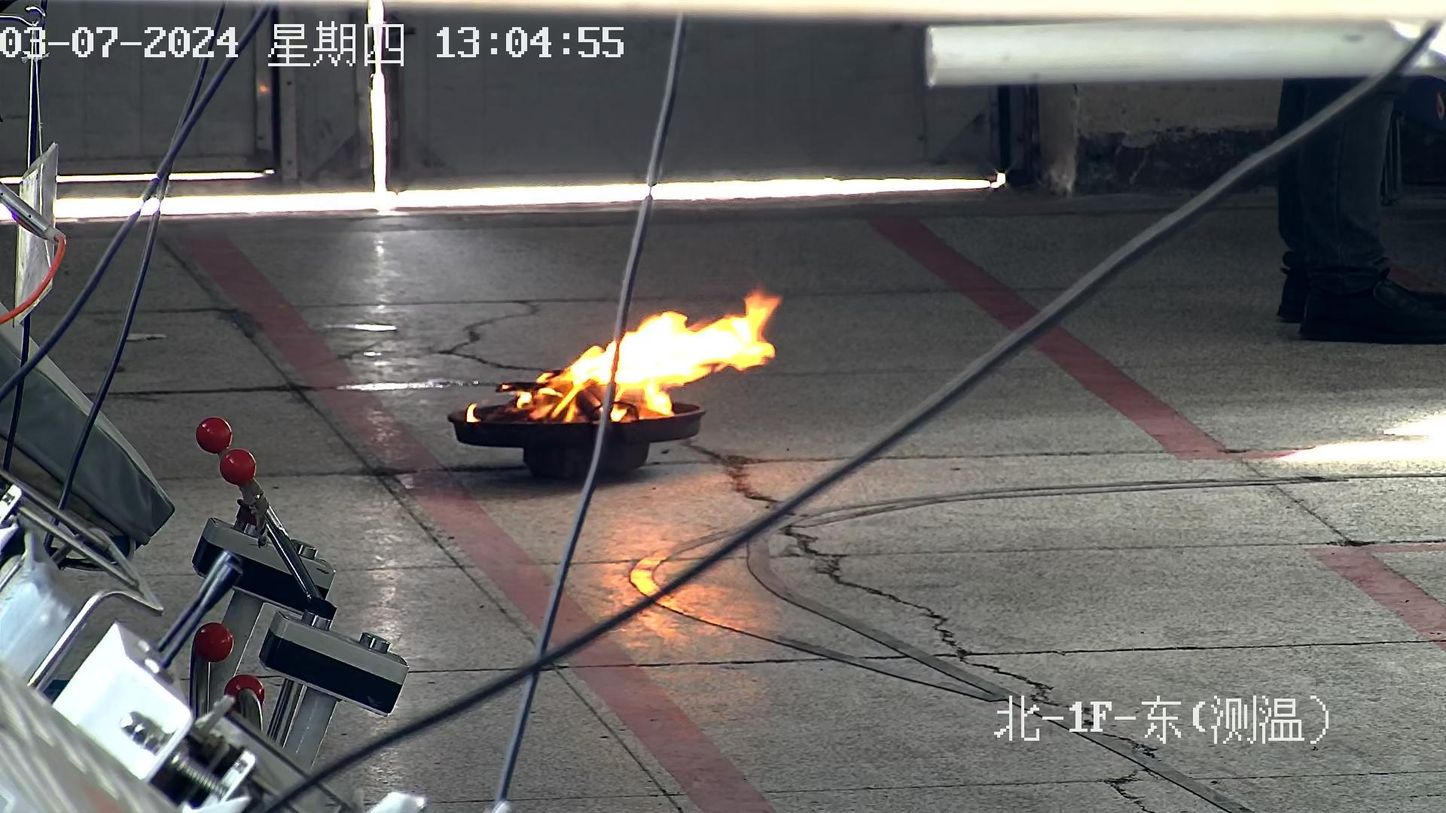fire: (517, 291, 779, 421)
